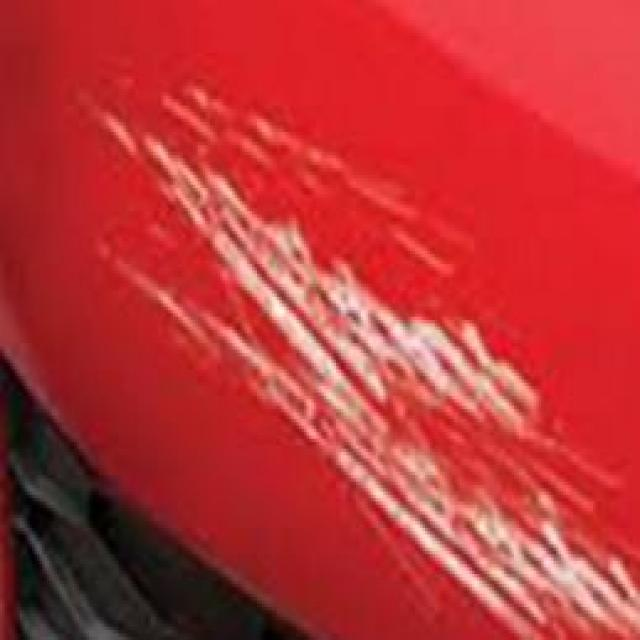scratch: (71, 69, 640, 639)
